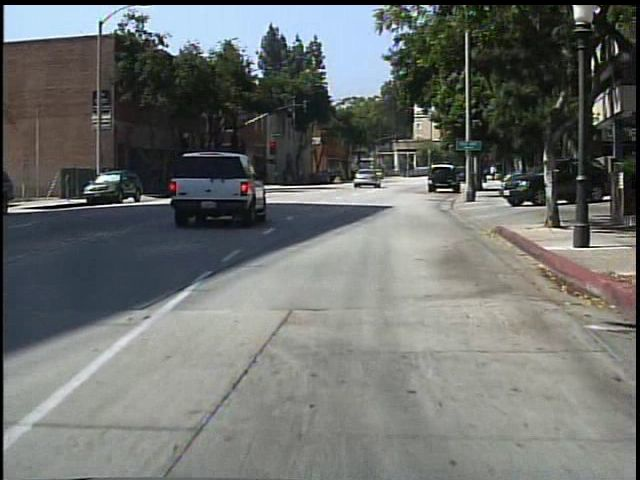person: (331, 166, 347, 187), (489, 163, 499, 183)
